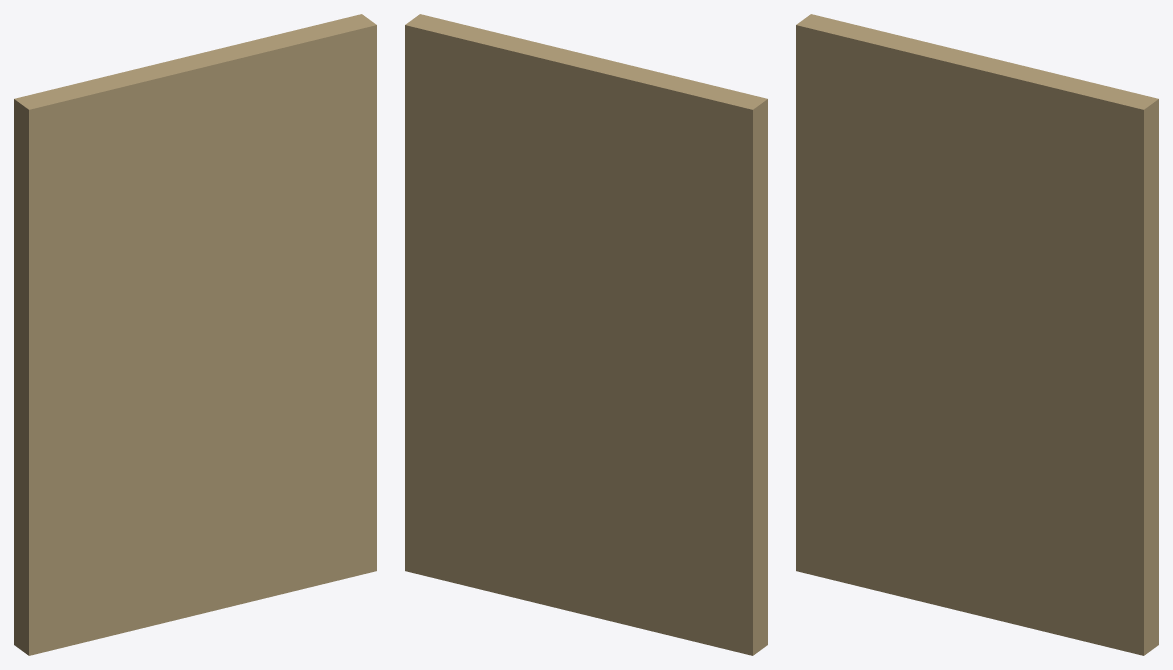
The model's file is Wall.fbx.
The picture shows the model from 3 angles, left to right: view 1: azimuth 30°, elevation 25°; view 2: azimuth 150°, elevation 25°; view 3: azimuth 330°, elevation 25°; orthographic projection.
Parts seen in each view (by area): view 1: Wall042; view 2: Wall042; view 3: Wall042.
Part boxes in pixels (left/top/right/bottom): Wall042: left=14, top=14, right=376, bottom=655; Wall042: left=405, top=14, right=767, bottom=655; Wall042: left=796, top=14, right=1158, bottom=655.
Size of the model in its own units: 200 by 300 by 15.
